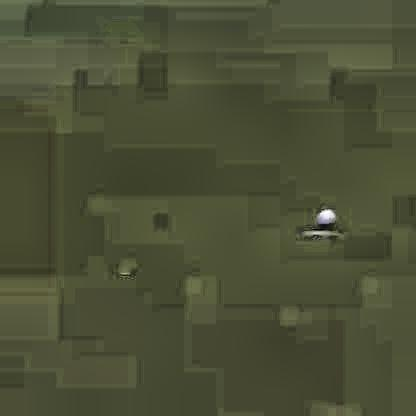golfball: (315, 206, 333, 224)
